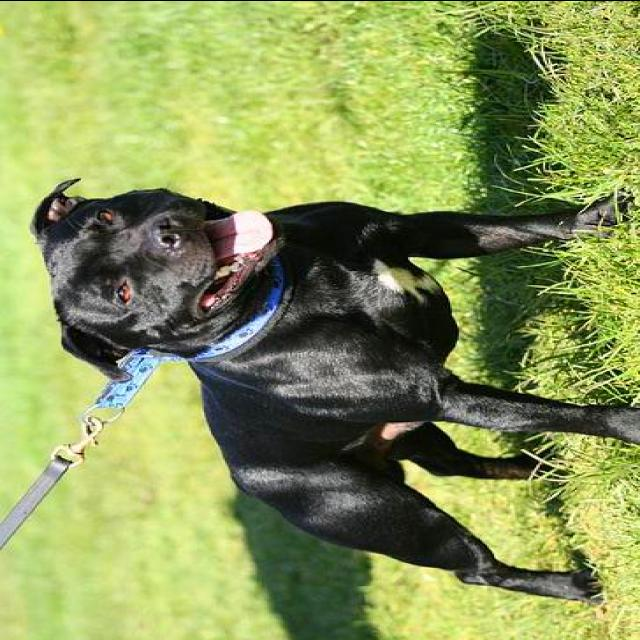staffordshire_bullterrier: (24, 173, 638, 608)
